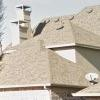Chimney: (8, 3, 41, 38)
